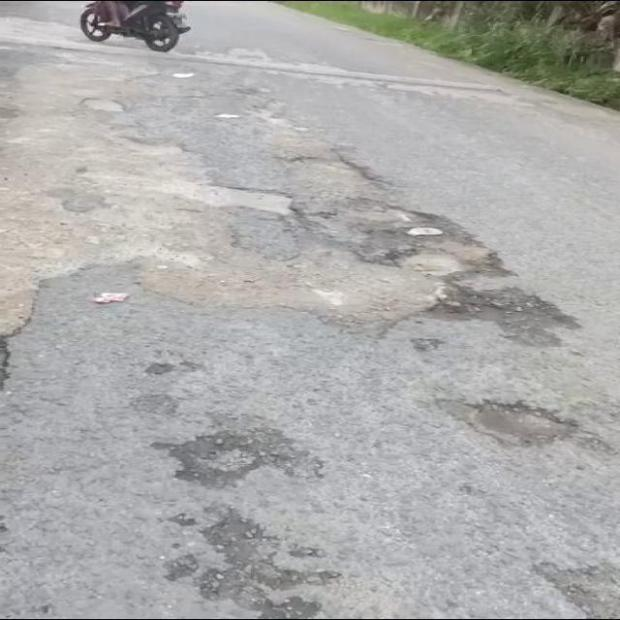lubang: (0, 101, 587, 345), (168, 508, 340, 617), (151, 429, 323, 486), (437, 398, 578, 448), (536, 563, 619, 616)
